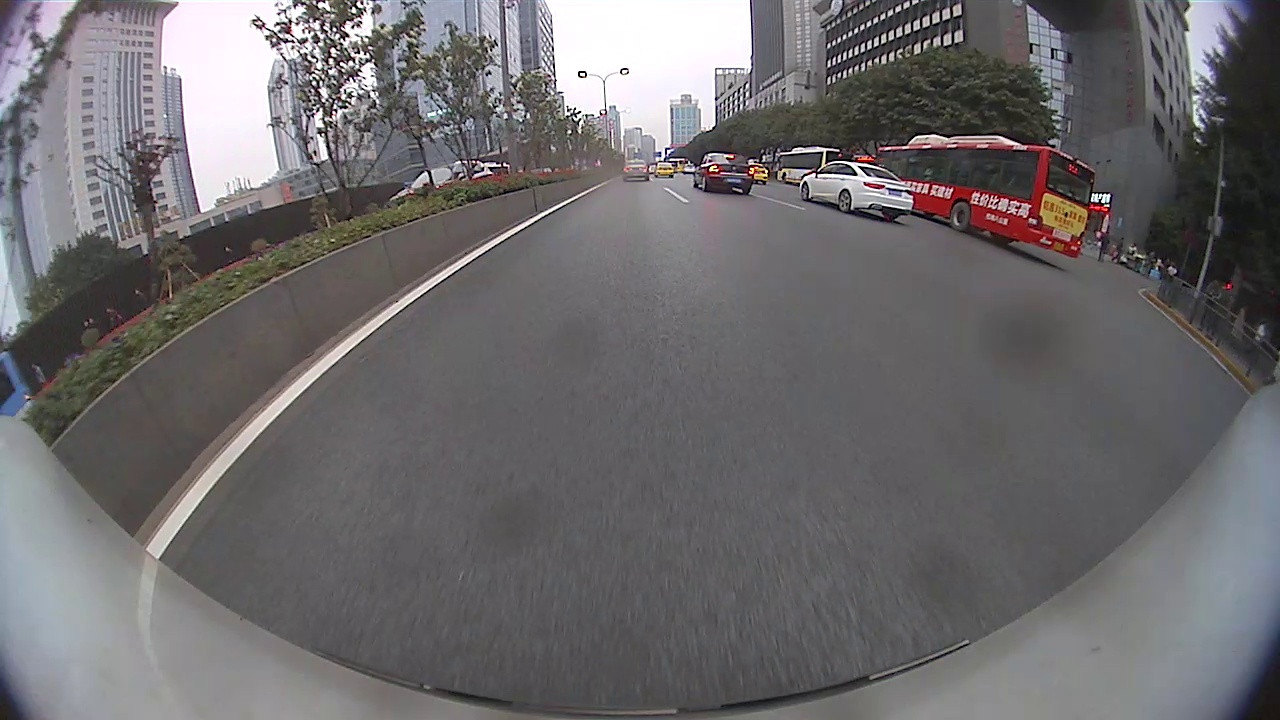bus: (878, 135, 1096, 257), (776, 146, 842, 184)
car: (799, 161, 915, 219), (693, 153, 753, 196), (1, 347, 34, 417), (621, 158, 649, 182), (747, 163, 770, 185), (655, 162, 675, 178)
front: (801, 184, 811, 202)
person: (1206, 277, 1217, 336), (1256, 318, 1267, 365)
rear: (950, 202, 972, 232), (837, 192, 855, 213)
